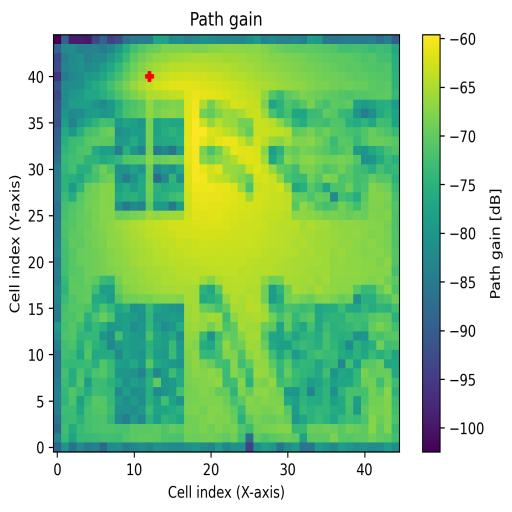Concrete: (291, 91, 369, 221)
Glass: (114, 100, 184, 221)
Metal: (285, 295, 369, 422)
Wood: (108, 302, 184, 425)
